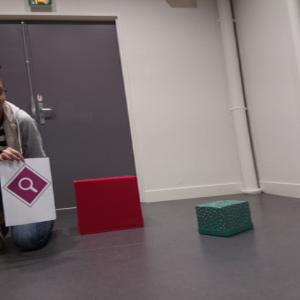search: (4, 164, 51, 207)
